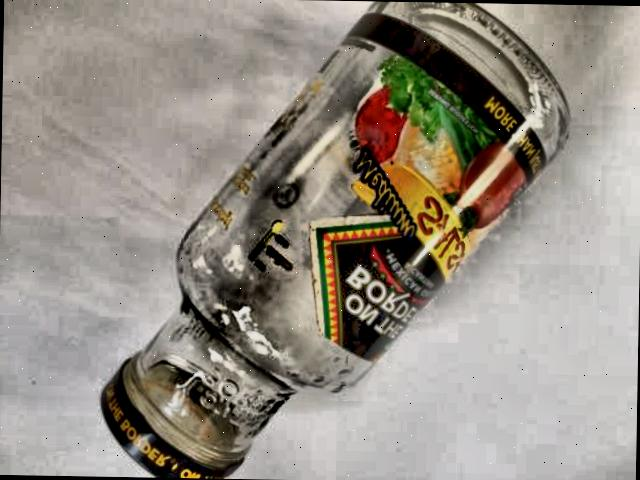Almennt: (102, 0, 583, 480)
